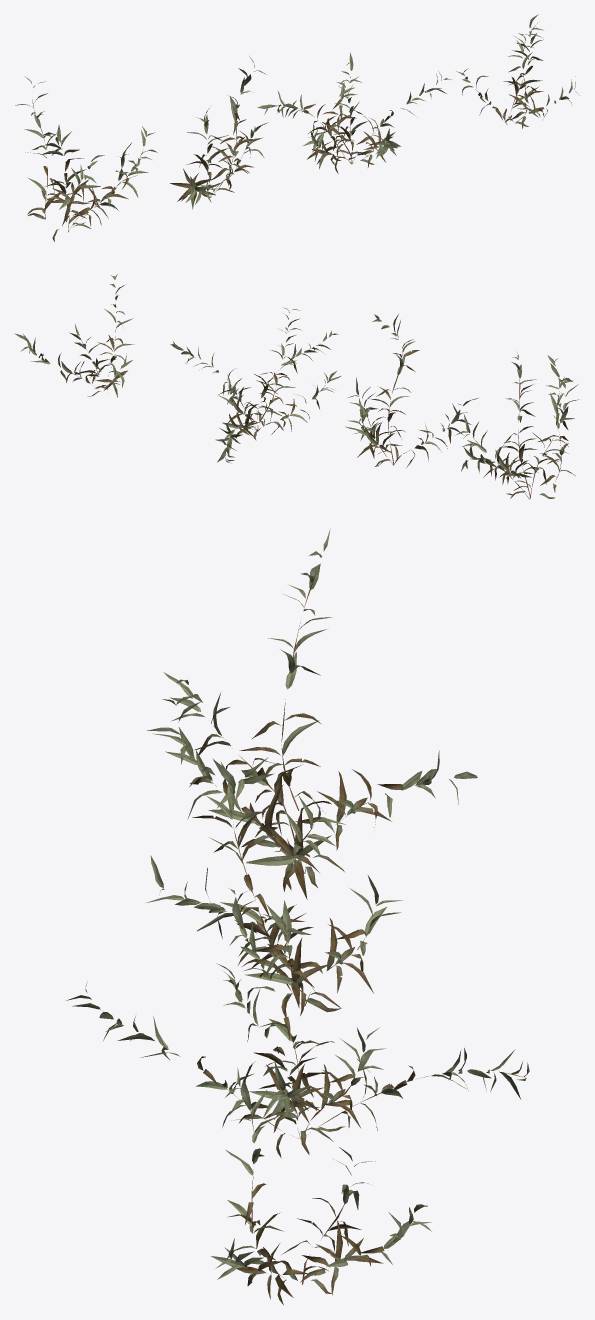
The model's file is shrub_02.glb.
3 views of the same model, one above another, from view 1: azimuth 30°, elevation 25°; view 2: azimuth 150°, elevation 25°; view 3: azimuth 270°, elevation 25° (orthographic). The views are drawn at different scales.
Visible parts, largest first — view 1: shrub_02_a; view 2: shrub_02_a; view 3: shrub_02_a.
Part boxes in pixels (<box>): shrub_02_a: <box>15,14,579,241</box>; shrub_02_a: <box>14,274,578,499</box>; shrub_02_a: <box>66,529,529,1305</box>.
Size of the model in its own units: 6.05 by 1.7 by 2.28.
1 material, 1 textured.
